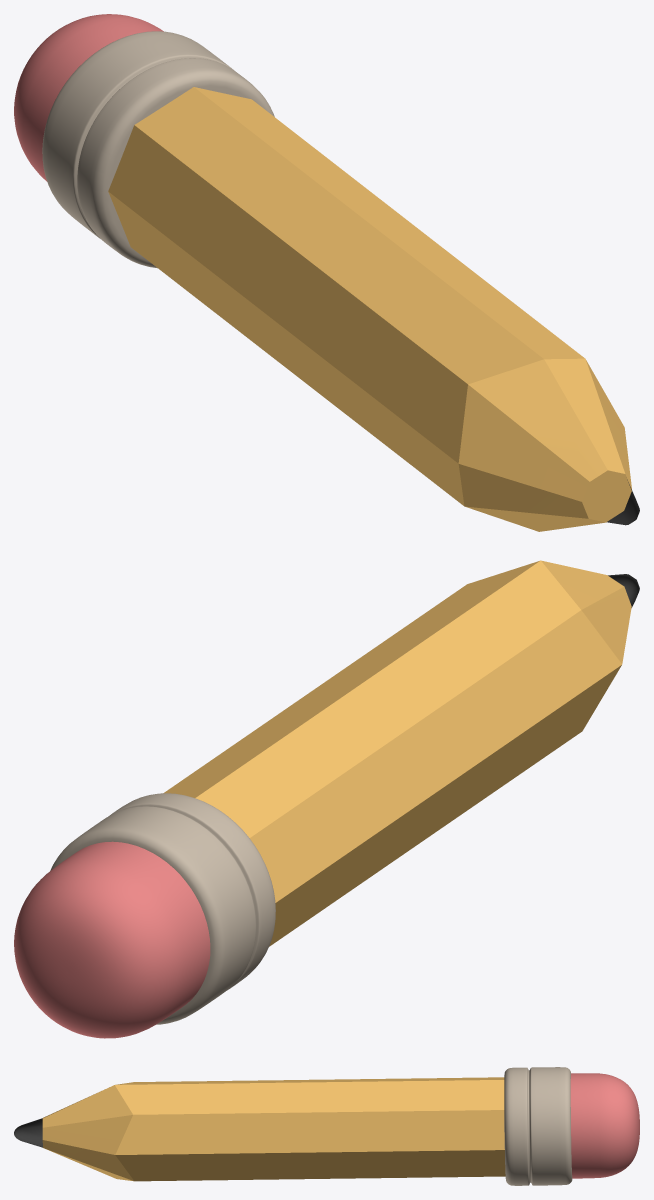
File: Pencil.glb
3 views of the same model, one above another, from view 1: azimuth 30°, elevation 25°; view 2: azimuth 150°, elevation 25°; view 3: azimuth 270°, elevation 25° (orthographic). The views are drawn at different scales.
Parts seen in each view (by area): view 1: Corpo, Ghiera, Gomma; view 2: Corpo, Gomma, Ghiera; view 3: Corpo, Ghiera, Gomma, Mina.
Part boxes in pixels (box(x1,y1,x2,y2)): Corpo: box(108, 87, 631, 531); Ghiera: box(42, 31, 274, 268); Gomma: box(14, 14, 163, 181); Corpo: box(163, 560, 631, 946); Gomma: box(14, 841, 210, 1038); Ghiera: box(50, 793, 275, 1024); Corpo: box(42, 1077, 505, 1181); Ghiera: box(504, 1067, 572, 1185); Gomma: box(570, 1073, 639, 1178); Mina: box(14, 1118, 42, 1147).
Size of the model in its own units: 0.3074 by 0.3097 by 1.62.
